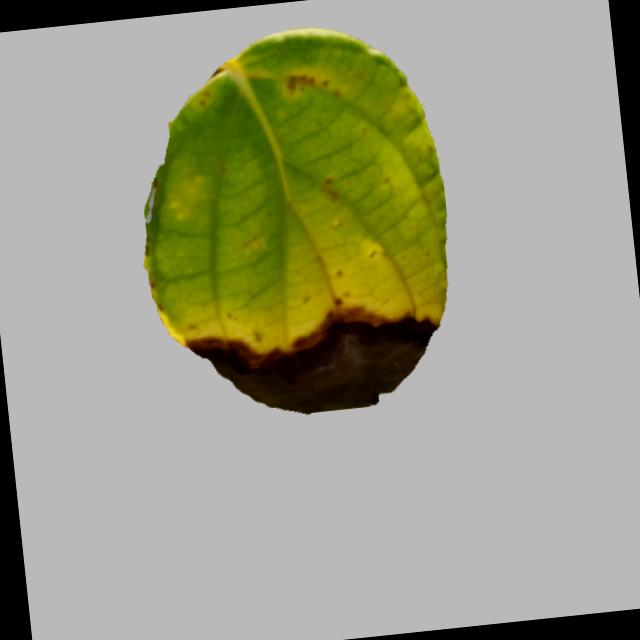leaf-blight: (103, 13, 474, 428)
